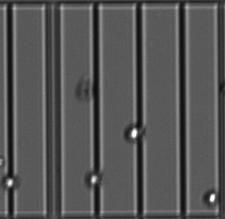Living Cell: (125, 126, 143, 142), (87, 172, 102, 187), (206, 191, 220, 205), (4, 177, 17, 190)
